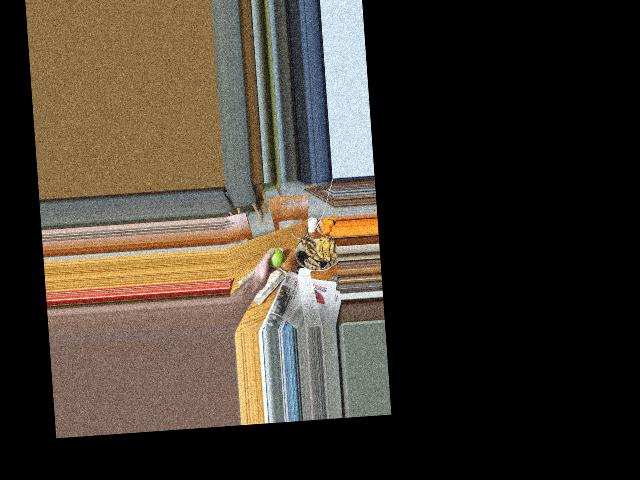apple: (262, 246, 284, 270)
